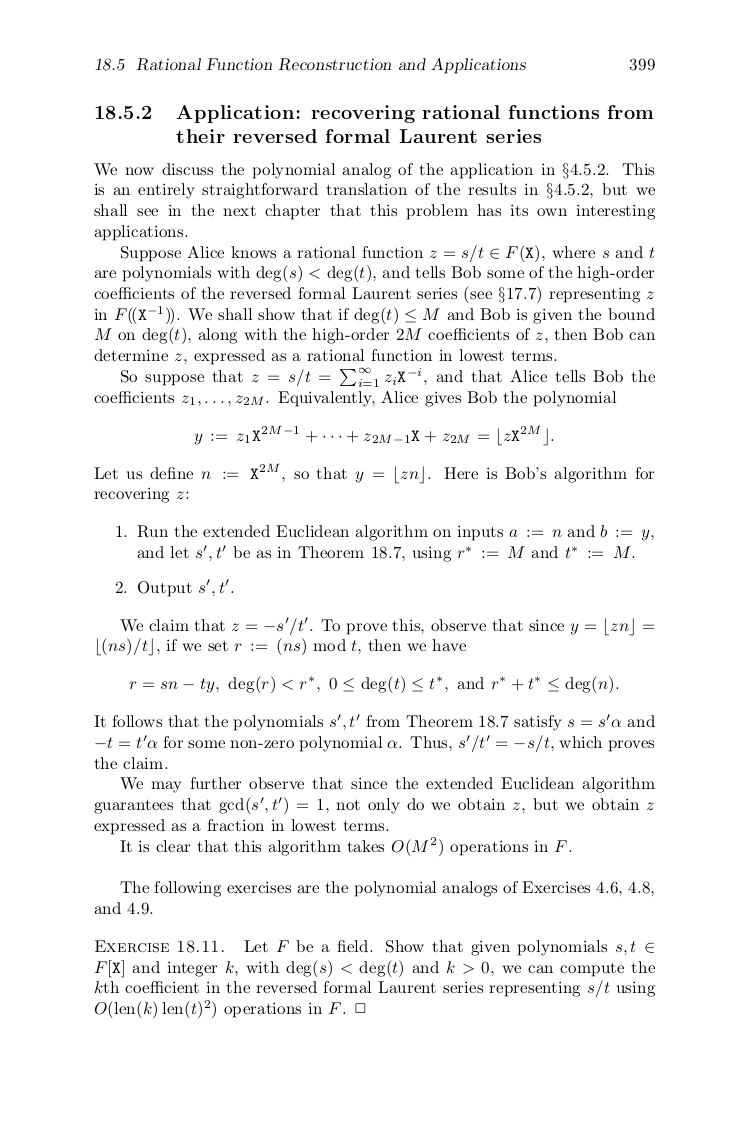formula: (129, 675, 618, 694), (194, 424, 553, 446)
